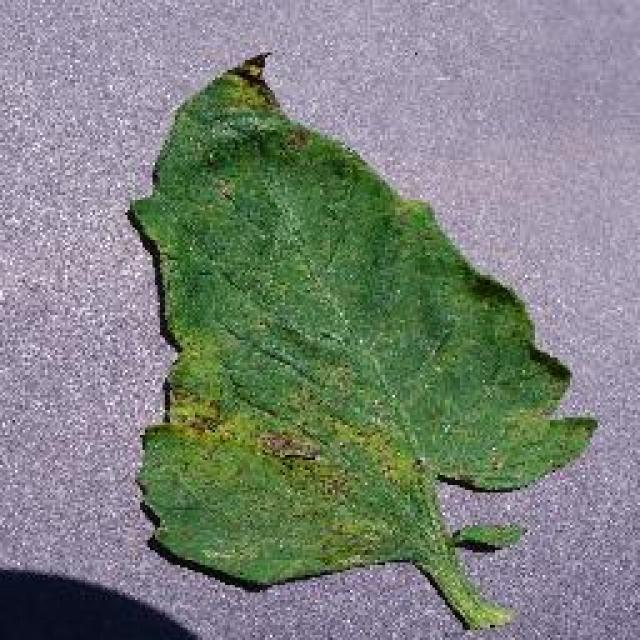Tomato Septoria spot leaf: (128, 51, 597, 596)
